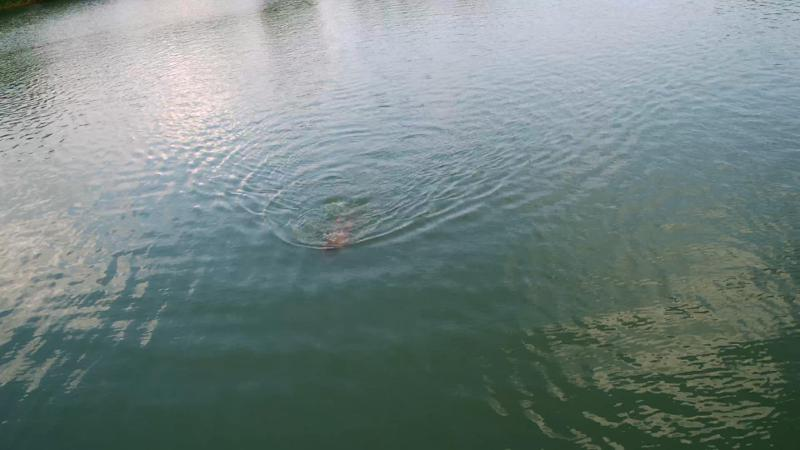passerby: (322, 216, 352, 248)
